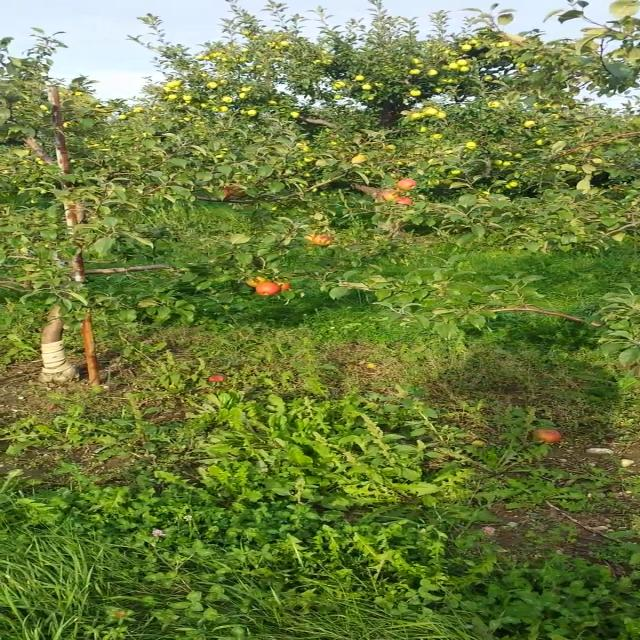apple: (254, 282, 278, 295), (247, 274, 267, 286), (398, 178, 415, 190), (313, 235, 332, 245), (381, 191, 399, 201), (221, 188, 234, 200), (394, 197, 412, 205), (304, 232, 314, 241), (278, 283, 289, 289)
